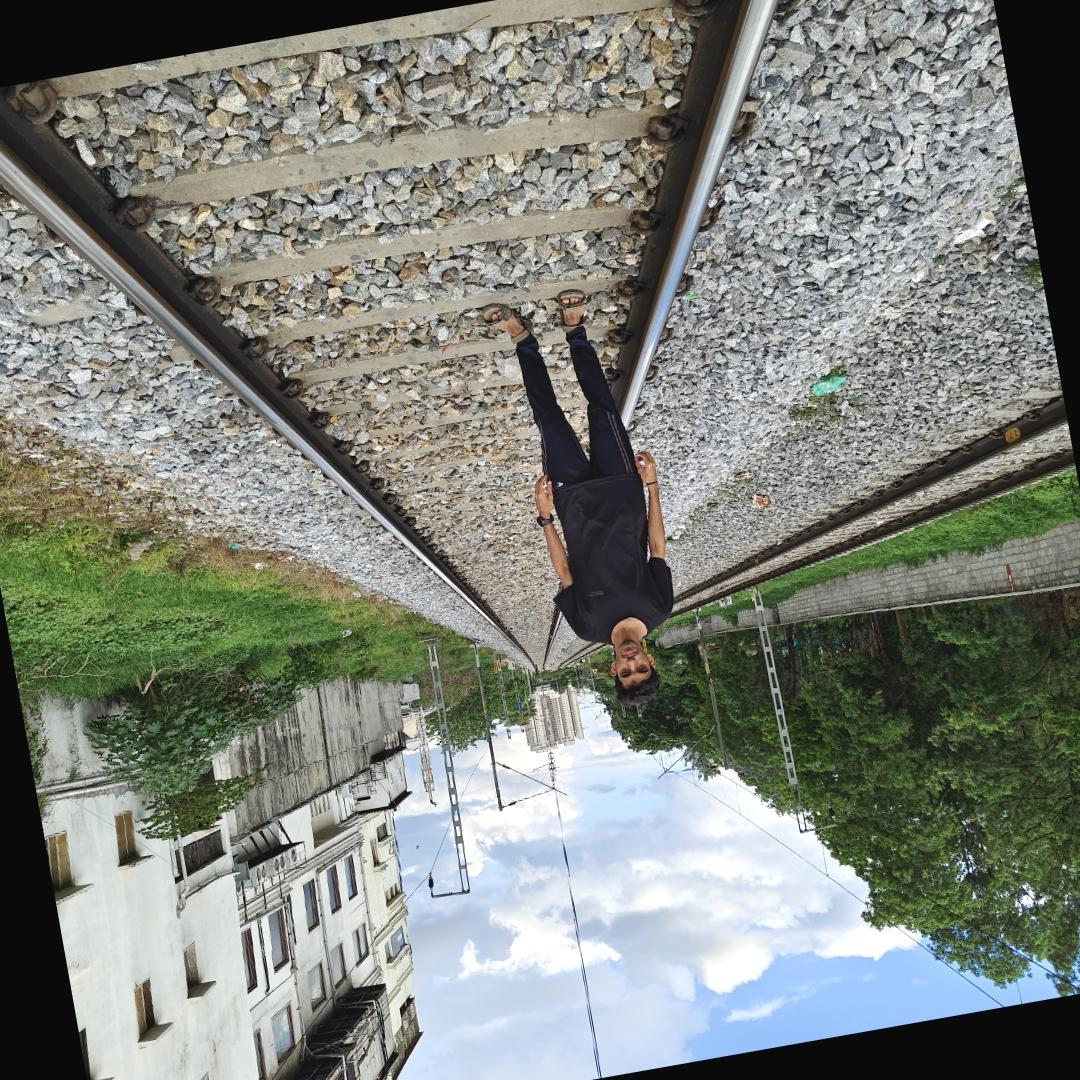standing: (476, 278, 704, 721)
